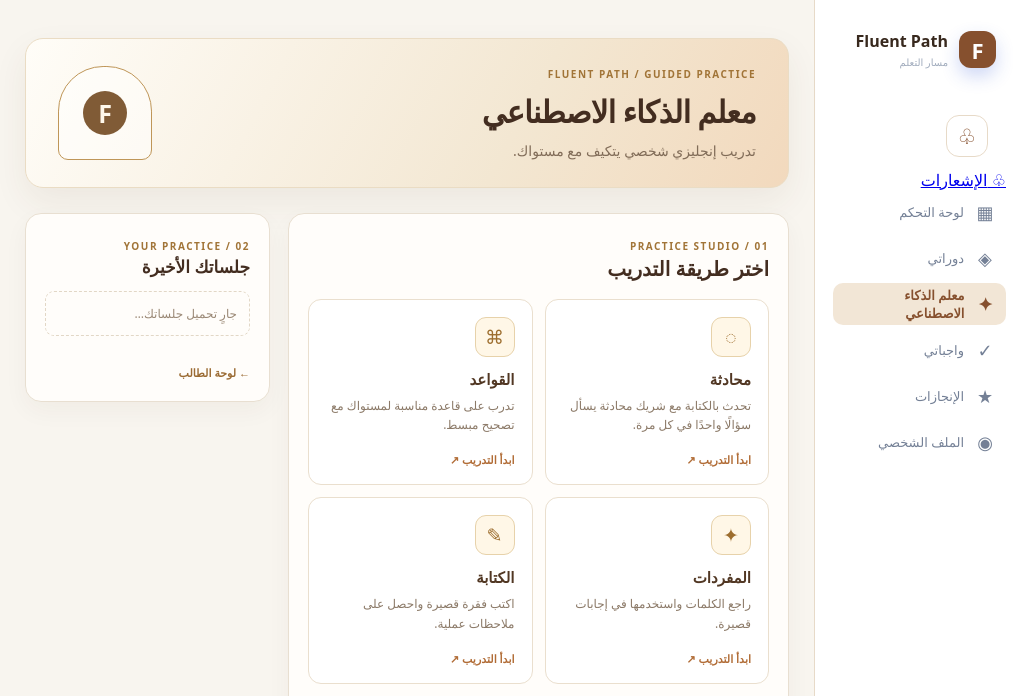
Test: shows bilingual practice modes and a clear configuration state when no provider is configured
Expected: the heading "اختر طريقة التدريب" is shown, top-left (607, 255), bottom-right (769, 282)
Click the button "المفردات": (657, 591) top-left (544, 497), bottom-right (769, 684)
(page scrolled)
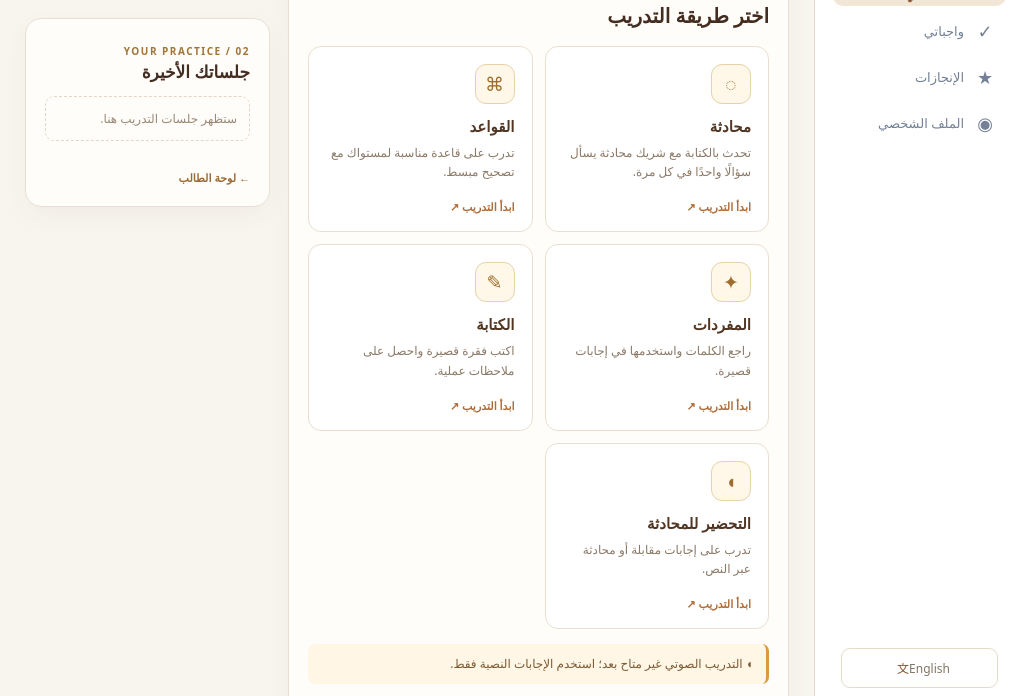
Click the button "English": (920, 668) top-left (841, 648), bottom-right (998, 688)
(page scrolled)
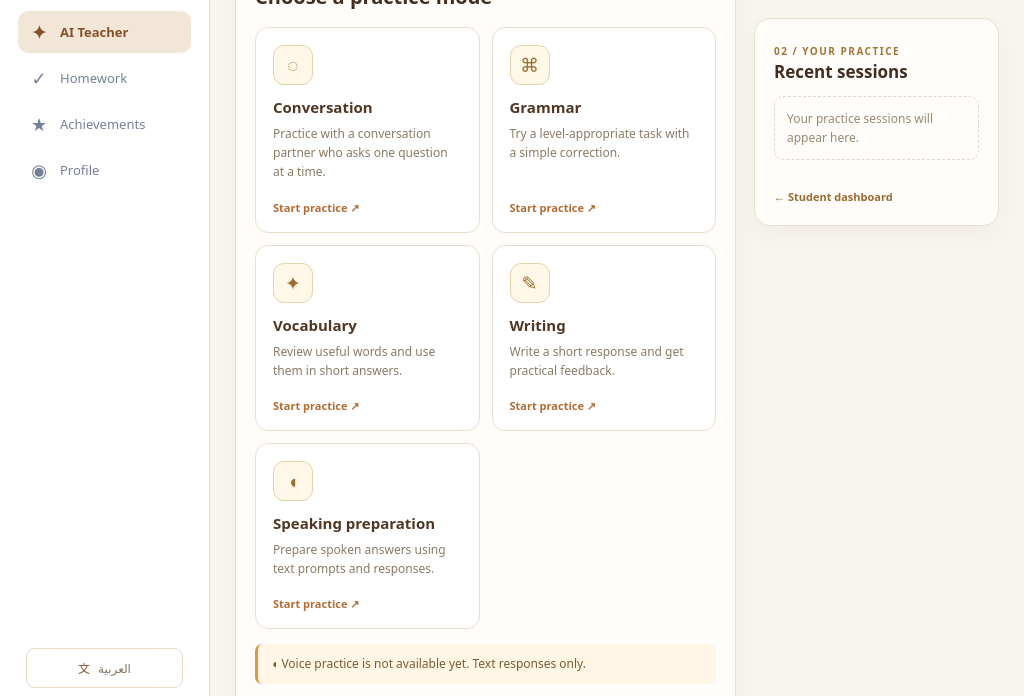
Result: the text with class "ai-speech-note" shows "Voice practice is not available yet. Text responses only." at top-left (281, 655), bottom-right (586, 672)
